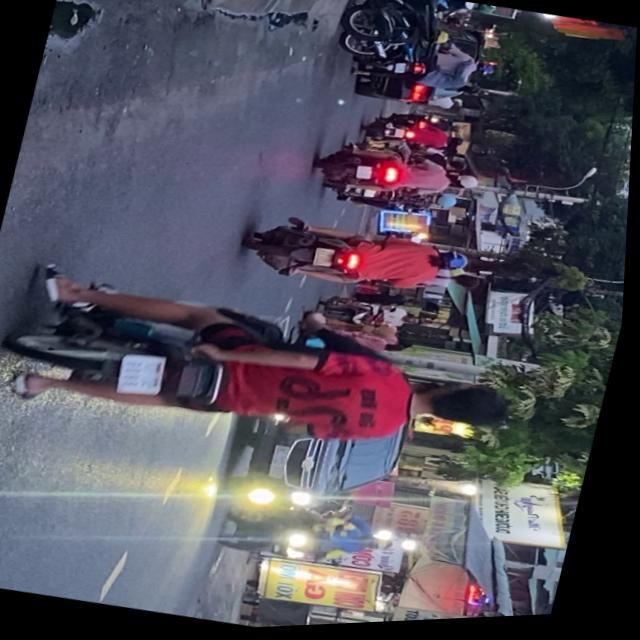helmet: (436, 253, 474, 280), (450, 177, 483, 198)
licenseplate: (0, 244, 538, 498), (239, 206, 480, 317), (311, 138, 487, 215)
motorcyclist: (413, 375, 518, 444)
nohelmet: (119, 353, 170, 401), (315, 250, 339, 272), (357, 168, 375, 185)
